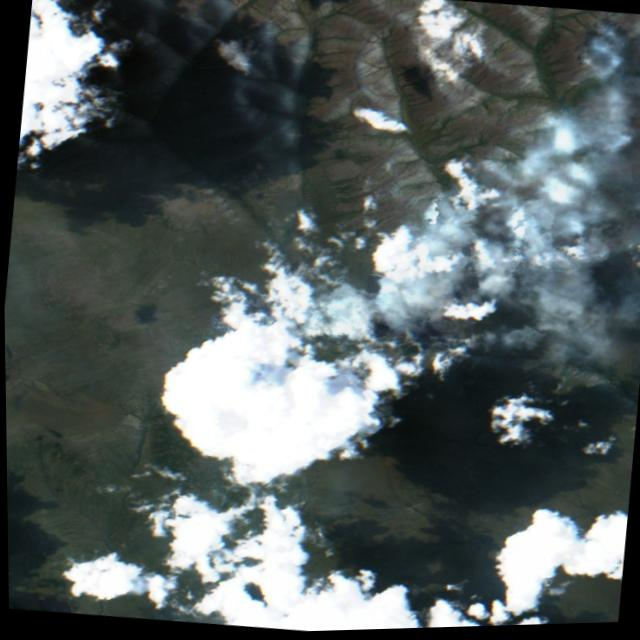fire: (204, 253, 459, 370)
